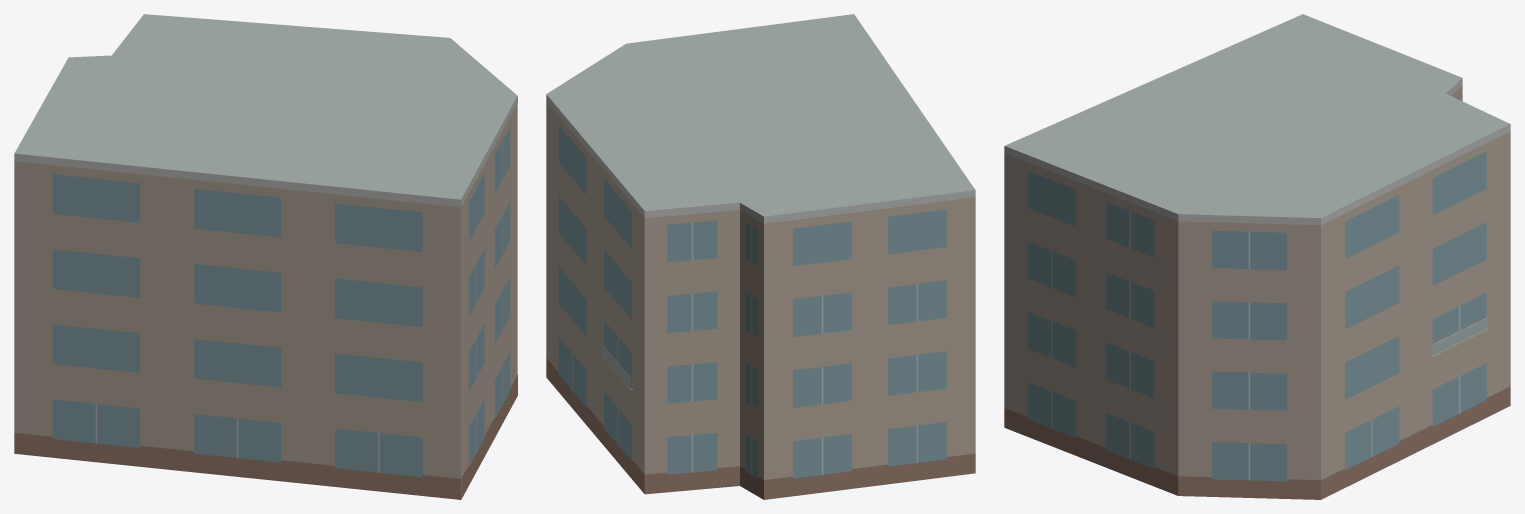
The model's file is survey-upis-32847777.glb.
3 views of the same model, side by side, from view 1: azimuth 30°, elevation 25°; view 2: azimuth 150°, elevation 25°; view 3: azimuth 270°, elevation 25° (orthographic). The views are drawn at different scales.
Visible parts, largest first — view 1: survey-upis-32847777.tmp; view 2: survey-upis-32847777.tmp; view 3: survey-upis-32847777.tmp.
Boxes of the visible parts, x1,y1,x2,y2 form: survey-upis-32847777.tmp: (14,14,517,499); survey-upis-32847777.tmp: (546,14,975,499); survey-upis-32847777.tmp: (1004,14,1510,499).
Bounding box in the file's own units: 14.92 × 9.6 × 15.64.
